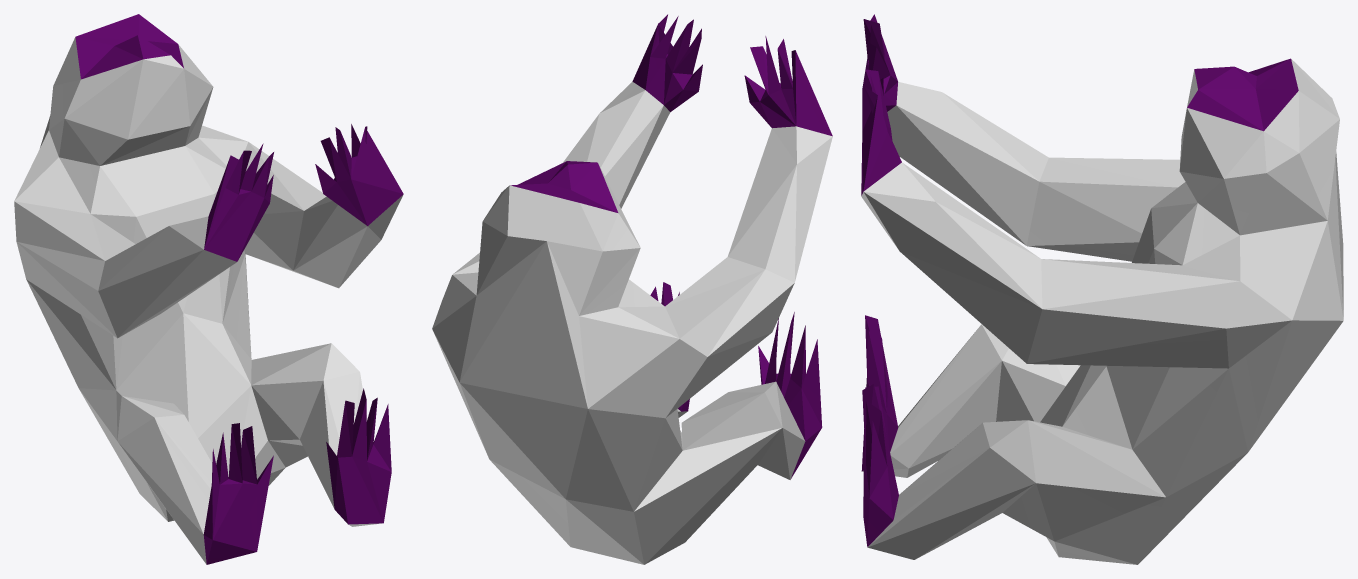
Rendered from MonkeyFBX.fbx.
3 views of the same model, side by side, from view 1: azimuth 30°, elevation 25°; view 2: azimuth 150°, elevation 25°; view 3: azimuth 270°, elevation 25° (orthographic). The views are drawn at different scales.
Visible parts, largest first — view 1: Gibbon; view 2: Gibbon; view 3: Gibbon.
Part boxes in pixels (left/top/right/bottom): Gibbon: left=14, top=14, right=403, bottom=564; Gibbon: left=432, top=14, right=832, bottom=564; Gibbon: left=861, top=14, right=1343, bottom=564.
Bounding box in the file's own units: 75.71 × 120 × 106.
